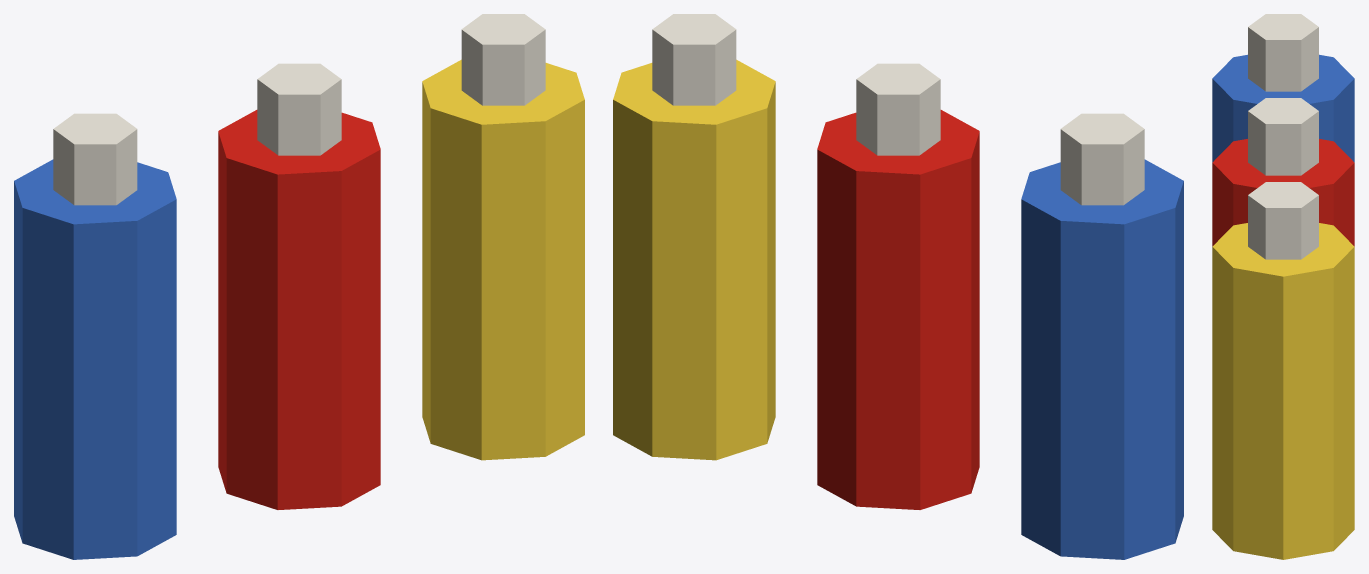
File: hydro_nutrient_bottles.glb
3 views of the same model, side by side, from view 1: azimuth 30°, elevation 25°; view 2: azimuth 150°, elevation 25°; view 3: azimuth 270°, elevation 25° (orthographic). The views are drawn at different scales.
Visible parts, largest first — view 1: nutrient_bottles; view 2: nutrient_bottles; view 3: nutrient_bottles.
Part boxes in pixels (x1=…): nutrient_bottles: x1=14, y1=14, x2=584, y2=559; nutrient_bottles: x1=613, y1=14, x2=1183, y2=559; nutrient_bottles: x1=1212, y1=14, x2=1354, y2=559.
Size of the model in its own units: 0.38 by 0.26 by 0.1.
